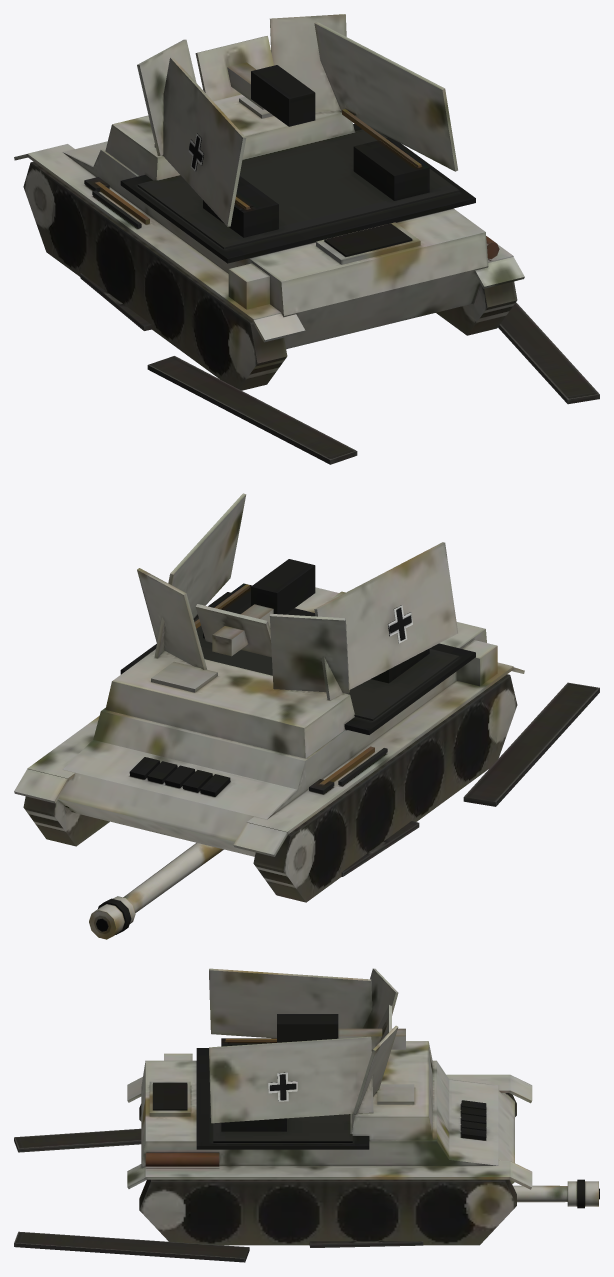
The model's file is marder3_winter.glb.
3 renders of one model, top to bottom at view 1: azimuth 30°, elevation 25°; view 2: azimuth 150°, elevation 25°; view 3: azimuth 270°, elevation 25°, orthographic. The views are drawn at different scales.
Parts seen in each view (by area): view 1: hull_ok, hull_trackL, hull_trackR; view 2: hull_ok, hull_trackL, gun_ok; view 3: hull_ok, hull_trackR, hull_trackL, gun_ok.
Part boxes in pixels (x1,y1,x2,y2): hull_ok: (14, 14, 524, 390); hull_trackL: (80, 273, 357, 464); hull_trackR: (498, 302, 599, 404); hull_ok: (14, 493, 524, 902); hull_trackL: (341, 682, 599, 876); gun_ok: (89, 842, 223, 939); hull_ok: (127, 968, 532, 1245); hull_trackR: (14, 1231, 423, 1262); hull_trackL: (14, 1128, 141, 1152); gun_ok: (513, 1179, 599, 1208).
Bounding box in the file's own units: 3.95 × 2.89 × 7.14.
Materials: 12 (12 with a texture image).
